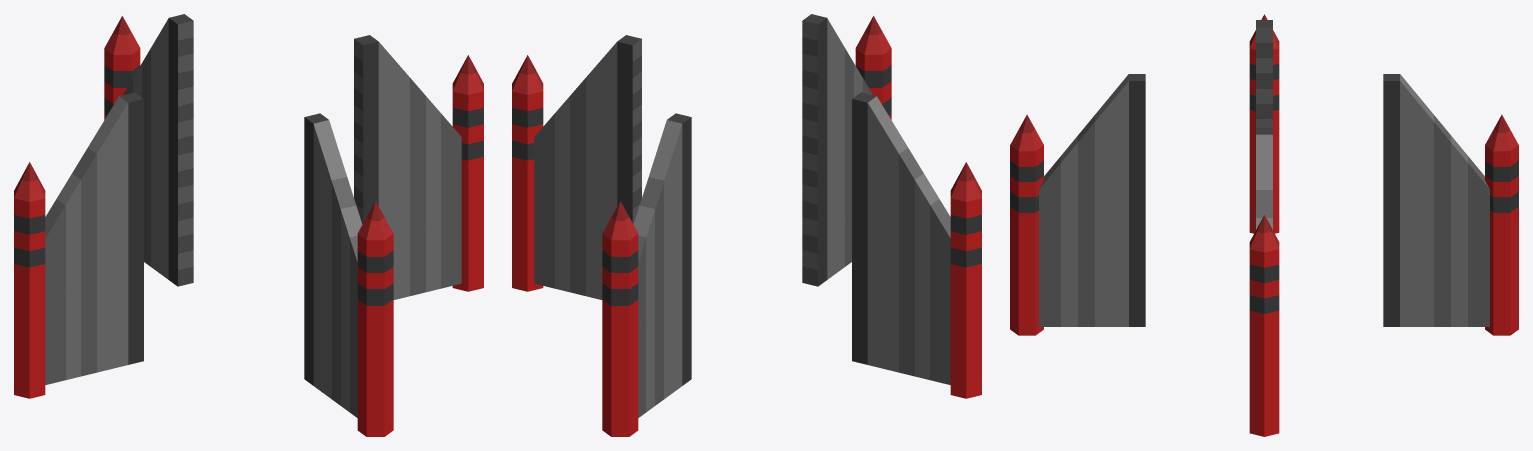
File: mp_s_10_space.obj
The picture shows the model from 3 angles, left to right: view 1: azimuth 30°, elevation 25°; view 2: azimuth 150°, elevation 25°; view 3: azimuth 270°, elevation 25°; orthographic projection. The views are drawn at different scales.
Parts seen in each view (by area): view 1: Cube; view 2: Cube; view 3: Cube.
Boxes of the visible parts, left/top/right/bottom form: Cube: left=14, top=14, right=483, bottom=436; Cube: left=512, top=14, right=981, bottom=436; Cube: left=1010, top=14, right=1518, bottom=436.
Size of the model in its own units: 1.88 by 1.03 by 1.88.
